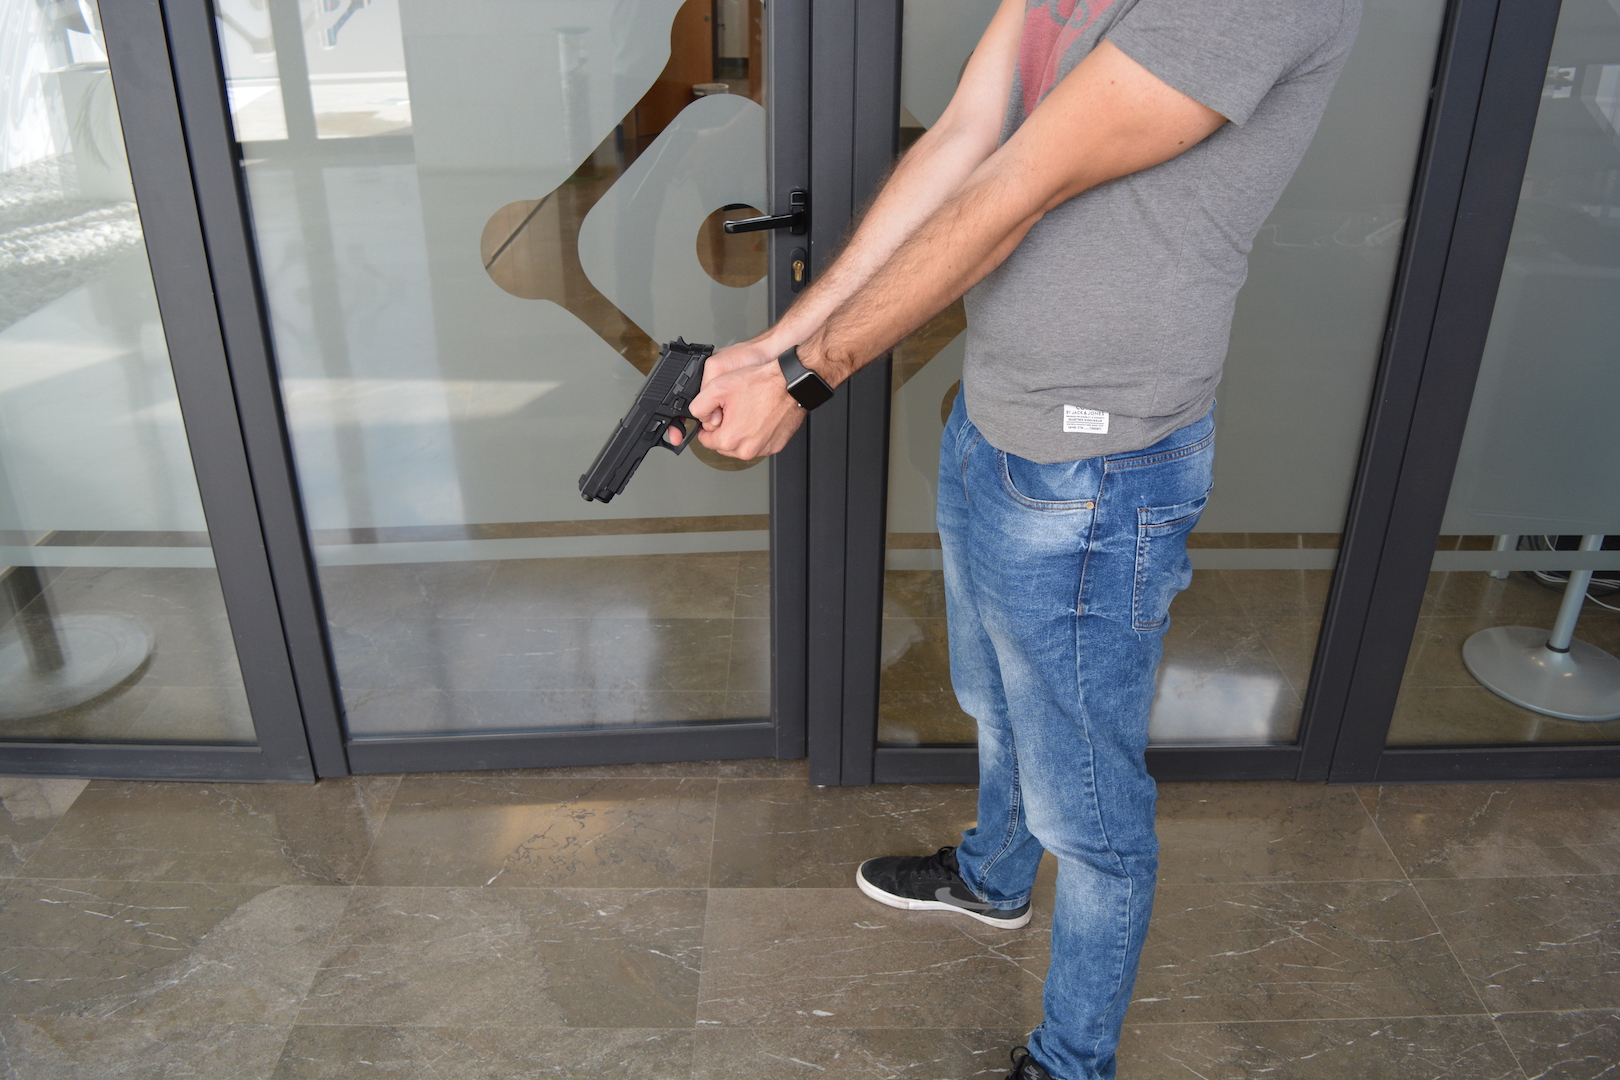pistol: (579, 336, 715, 503)
